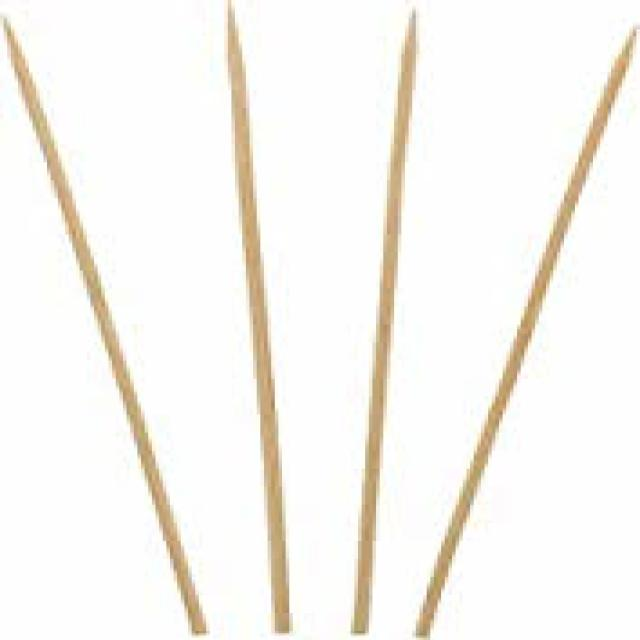stick: (415, 29, 635, 637), (5, 19, 203, 634), (351, 11, 414, 633), (230, 0, 289, 632)
